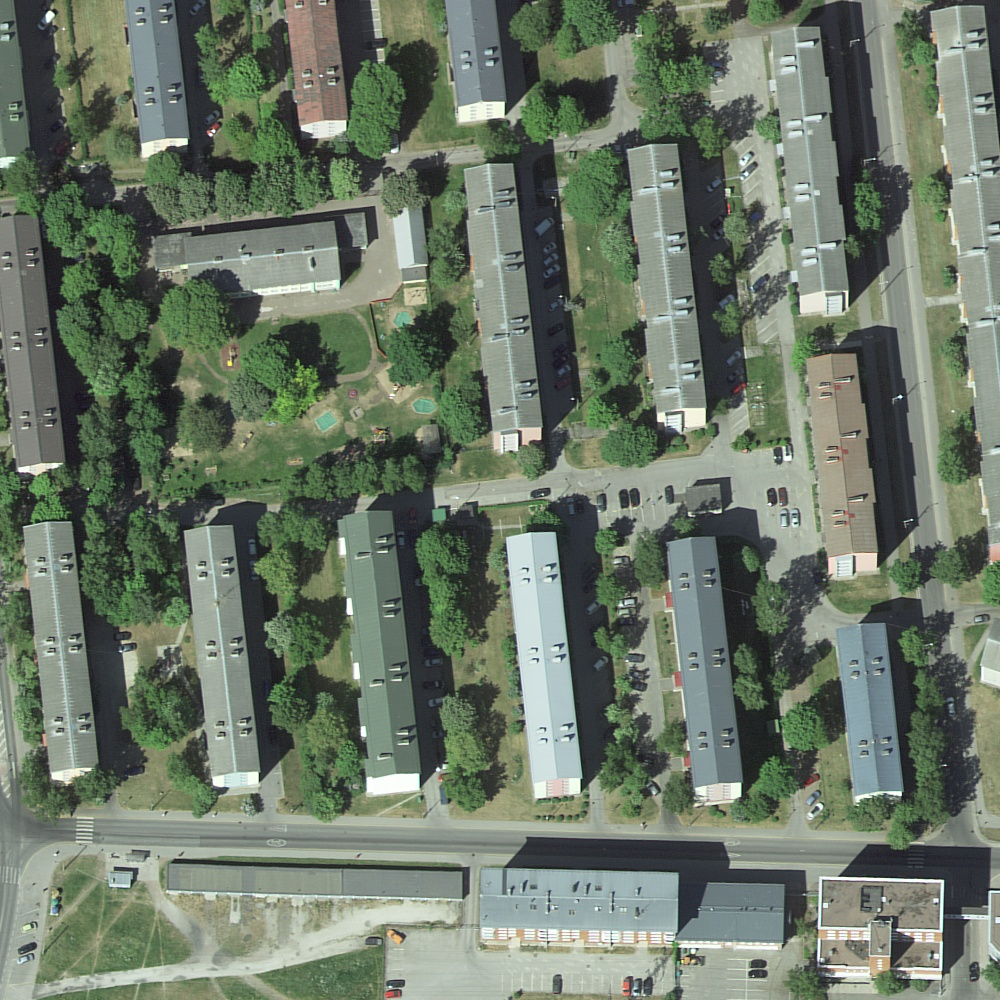building: (931, 7, 1000, 545), (464, 165, 543, 431), (344, 512, 422, 780), (628, 145, 706, 412), (772, 28, 849, 297), (667, 538, 744, 790), (507, 533, 583, 783), (24, 523, 100, 773), (185, 526, 260, 778), (1, 216, 67, 466), (807, 354, 880, 558), (482, 869, 679, 932), (836, 624, 906, 796), (818, 878, 945, 969), (186, 223, 342, 295), (168, 864, 463, 899), (127, 2, 191, 144), (286, 1, 350, 126), (446, 1, 507, 107), (677, 883, 785, 942), (1, 1, 32, 159), (390, 206, 428, 269), (152, 234, 192, 268), (334, 214, 369, 249), (982, 618, 1000, 672), (687, 485, 722, 511), (988, 890, 999, 955), (402, 267, 427, 282), (110, 871, 131, 884)
